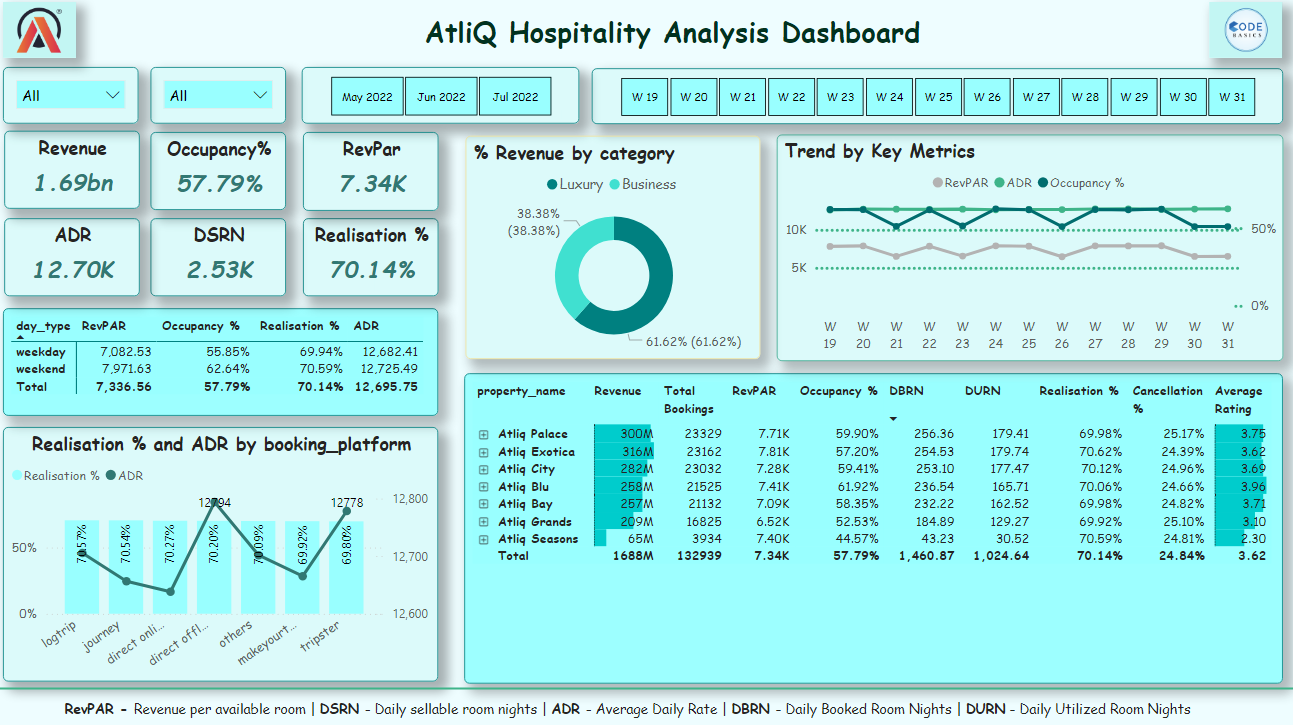

The dashboard page shown, as its layout file describes it:
{"tool":"powerbi","page":{"name":"Hospitality","canvas":[1280,720],"ordinal":5},"visuals":[{"type":"slicer","fields":{"Values":["dim_hotels.city"]},"box":[164,0,149.5,67.5],"z":0},{"type":"slicer","fields":{"Values":["dim_rooms.room_class"]},"box":[318.7,0,150.8,67.5],"z":1000},{"type":"pivotTable","fields":{"Values":["Key measures.Revenue","Key measures.Total Bookings","Key measures.RevPAR","Key measures.Occupancy %","Key measures.ADR","Key measures.DBRN","Key measures.DSRN","Key measures.DURN","Key measures.Realisation %","Key measures.Cancellation %","Key measures.Average Rating"],"Rows":["dim_hotels.property_name","dim_hotels.city"]},"box":[458.9,332,810.7,343.9],"z":2000},{"type":"slicer","fields":{"Values":["dim_date.mmm yy"]},"box":[476.1,0,272.5,67.5],"z":3000},{"type":"slicer","fields":{"Values":["dim_date.week no"]},"box":[757.8,0,511.8,67.5],"z":4000},{"type":"image","box":[17.2,0,68.8,67.5],"z":5000},{"type":"pivotTable","fields":{"Rows":["dim_date.day_type"],"Values":["Key measures.RevPAR","Key measures.Occupancy %","Key measures.Realisation %","Key measures.ADR"]},"box":[17.3,388,437.3,94.7],"z":6000},{"type":"card","title":"Revenue","fields":{"Values":["Key measures.Revenue"]},"box":[19.8,97.2,132,76],"z":7000},{"type":"card","title":"Occupancy%","fields":{"Values":["Key measures.Occupancy %"]},"box":[169.2,97.2,132,76],"z":8000},{"type":"card","title":"Realisation %","fields":{"Values":["Key measures.Realisation %"]},"box":[322.7,219.6,132,76],"z":9000},{"type":"card","title":"RevPar","fields":{"Values":["Key measures.RevPAR"]},"box":[322.7,97.2,132,76],"z":10000},{"type":"card","title":"DSRN","fields":{"Values":["Key measures.DSRN"]},"box":[169.2,219.6,132,76],"z":11000},{"type":"card","title":"ADR","fields":{"Values":["Key measures.ADR"]},"box":[19.8,219.6,132,76],"z":12000},{"type":"textbox","box":[17.2,332,437.8,45],"z":13000},{"type":"donutChart","fields":{"Y":["Key measures.Revenue"],"Category":["dim_hotels.category"]},"box":[469.5,97.9,288.3,218.2],"z":14000},{"type":"lineStackedColumnComboChart","fields":{"Y2":["Key measures.ADR"],"Category":["fact_bookings.booking_platform"],"Y":["Key measures.Realisation %"]},"box":[17.2,492,437.8,183.8],"z":15000},{"type":"lineChart","title":"Trend by Key Metrics","fields":{"Category":["dim_date.mmm yy.Variation.Date Hierarchy.Month","dim_date.week no"],"Y2":["Key measures.Occupancy %"],"Y":["Key measures.RevPAR","Key measures.ADR"]},"box":[773.7,96.5,496,220.9],"z":16000},{"type":"image","box":[91.3,0,68.8,67.5],"z":17000},{"type":"card","fields":{"Values":["Key measures.Revpar WoW change %"]},"box":[345,182,89.9,30.4],"z":18000},{"type":"card","fields":{"Values":["Key measures.Occupancy WoW change %"]},"box":[193.1,182.5,89.9,30.4],"z":19000},{"type":"card","fields":{"Values":["Key measures.Revenue WoW change %"]},"box":[46.3,183.8,89.9,30.4],"z":20000},{"type":"card","fields":{"Values":["Key measures.ADR WoW change %"]},"box":[43.6,300.2,89.9,30.4],"z":21000},{"type":"card","fields":{"Values":["Key measures.DSRN WoW change %"]},"box":[190.5,301.6,89.9,30.4],"z":22000},{"type":"card","fields":{"Values":["Key measures.Realisation WoW change %"]},"box":[343.9,300.2,89.9,30.4],"z":23000}]}

Visuals, with their boxes in screenshot pixels (x1, y1, x2, y2), scaled from the page's 1280x720 canvas onto the 1293x725 screenshot:
slicer - dim_hotels.city: bbox=[166, 0, 317, 68]
slicer - dim_rooms.room_class: bbox=[322, 0, 474, 68]
pivotTable - Key measures.Revenue x Key measures.Total Bookings: bbox=[464, 334, 1282, 681]
slicer - dim_date.mmm yy: bbox=[481, 0, 756, 68]
slicer - dim_date.week no: bbox=[765, 0, 1282, 68]
image: bbox=[17, 0, 87, 68]
pivotTable - dim_date.day_type x Key measures.RevPAR: bbox=[17, 391, 459, 486]
"Revenue" card: bbox=[20, 98, 153, 174]
"Occupancy%" card: bbox=[171, 98, 304, 174]
"Realisation %" card: bbox=[326, 221, 459, 298]
"RevPar" card: bbox=[326, 98, 459, 174]
"DSRN" card: bbox=[171, 221, 304, 298]
"ADR" card: bbox=[20, 221, 153, 298]
textbox: bbox=[17, 334, 460, 380]
donutChart - Key measures.Revenue x dim_hotels.category: bbox=[474, 99, 765, 318]
lineStackedColumnComboChart - Key measures.ADR x fact_bookings.booking_platform: bbox=[17, 495, 460, 680]
"Trend by Key Metrics" lineChart: bbox=[782, 97, 1283, 320]
image: bbox=[92, 0, 162, 68]
card - Key measures.Revpar WoW change %: bbox=[349, 183, 439, 214]
card - Key measures.Occupancy WoW change %: bbox=[195, 184, 286, 214]
card - Key measures.Revenue WoW change %: bbox=[47, 185, 138, 216]
card - Key measures.ADR WoW change %: bbox=[44, 302, 135, 333]
card - Key measures.DSRN WoW change %: bbox=[192, 304, 283, 334]
card - Key measures.Realisation WoW change %: bbox=[347, 302, 438, 333]
